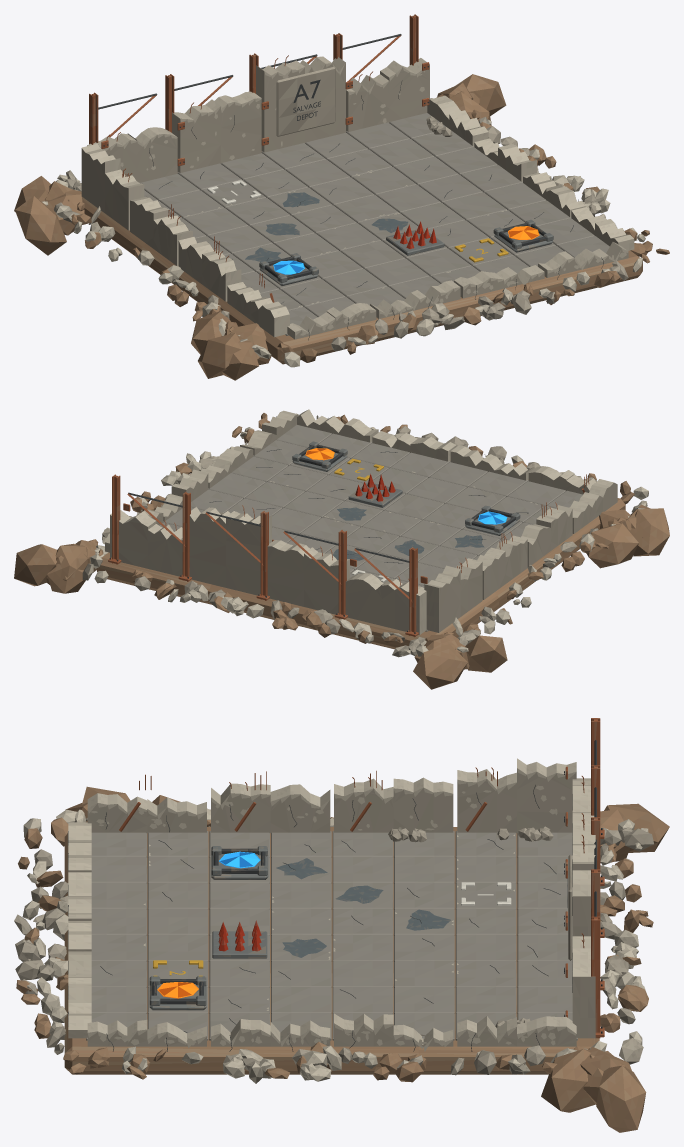
Rendered from environment.glb.
The picture shows the model from 3 angles, top to bottom: view 1: azimuth 30°, elevation 25°; view 2: azimuth 150°, elevation 25°; view 3: azimuth 270°, elevation 25°; orthographic projection. The views are drawn at different scales.
Visible parts, largest first — view 1: Deep rubble foundation, A7 monolithic sign, Fractured monolithic wall.002, Fractured monolithic wall.003, Fractured monolithic wall.007, Fractured monolithic wall.004, Fractured monolithic wall.006, Fractured monolithic wall.001, Faceted canyon strata.003, Fractured monolithic wall.015, Fractured monolithic wall.014, Fractured monolithic wall.005 (+79 smaller); view 2: Deep rubble foundation, Fractured monolithic wall.004, Fractured monolithic wall.005, Fractured monolithic wall.003, Fractured monolithic wall.002, Fractured monolithic wall.015, Fractured monolithic wall, Fractured monolithic wall.001, Fractured monolithic wall.007, Faceted canyon strata.001, Fractured monolithic wall.006, Faceted canyon strata.011 (+59 smaller); view 3: Deep rubble foundation, Fractured monolithic wall.015, Fractured monolithic wall.014, Fractured monolithic wall.013, Fractured monolithic wall.012, Faceted canyon strata.004, Fractured monolithic wall.010, Fractured monolithic wall.011, Faceted canyon strata.007, Fractured monolithic wall.008, Fractured monolithic wall.007, Fractured monolithic wall.009 (+78 smaller).
Boxes of the visible parts, x1,y1,x2,y2 form: Deep rubble foundation: [80, 151, 642, 364]; A7 monolithic sign: [276, 67, 335, 136]; Fractured monolithic wall.002: [172, 99, 220, 172]; Fractured monolithic wall.003: [214, 91, 261, 163]; Fractured monolithic wall.007: [380, 58, 429, 122]; Fractured monolithic wall.004: [256, 60, 304, 152]; Fractured monolithic wall.006: [346, 74, 389, 131]; Fractured monolithic wall.001: [127, 127, 177, 182]; Faceted canyon strata.003: [15, 196, 66, 255]; Fractured monolithic wall.015: [81, 144, 120, 212]; Fractured monolithic wall.014: [105, 169, 144, 230]; Fractured monolithic wall.005: [300, 56, 345, 142]; Deep rubble foundation: [97, 460, 625, 649]; Fractured monolithic wall.004: [226, 511, 271, 595]; Fractured monolithic wall.005: [189, 507, 230, 587]; Fractured monolithic wall.003: [267, 540, 309, 606]; Fractured monolithic wall.002: [304, 547, 349, 614]; Fractured monolithic wall.015: [424, 565, 460, 632]; Fractured monolithic wall: [382, 579, 426, 634]; Fractured monolithic wall.001: [345, 573, 390, 625]; Fractured monolithic wall.007: [110, 510, 156, 568]; Faceted canyon strata.001: [413, 644, 467, 689]; Fractured monolithic wall.006: [148, 524, 182, 576]; Faceted canyon strata.011: [587, 523, 638, 568]; Deep rubble foundation: [64, 827, 599, 1074]; Fractured monolithic wall.015: [517, 758, 576, 833]; Fractured monolithic wall.014: [457, 769, 516, 833]; Fractured monolithic wall.013: [393, 777, 453, 832]; Fractured monolithic wall.012: [334, 778, 393, 832]; Faceted canyon strata.004: [596, 1065, 646, 1132]; Fractured monolithic wall.010: [211, 783, 270, 833]; Fractured monolithic wall.011: [270, 784, 330, 832]; Faceted canyon strata.007: [541, 1049, 595, 1112]; Fractured monolithic wall.008: [87, 793, 147, 833]; Fractured monolithic wall.007: [572, 955, 595, 1038]; Fractured monolithic wall.009: [147, 797, 206, 833].
Size of the model in its own units: 19.12 by 4.79 by 17.04.
